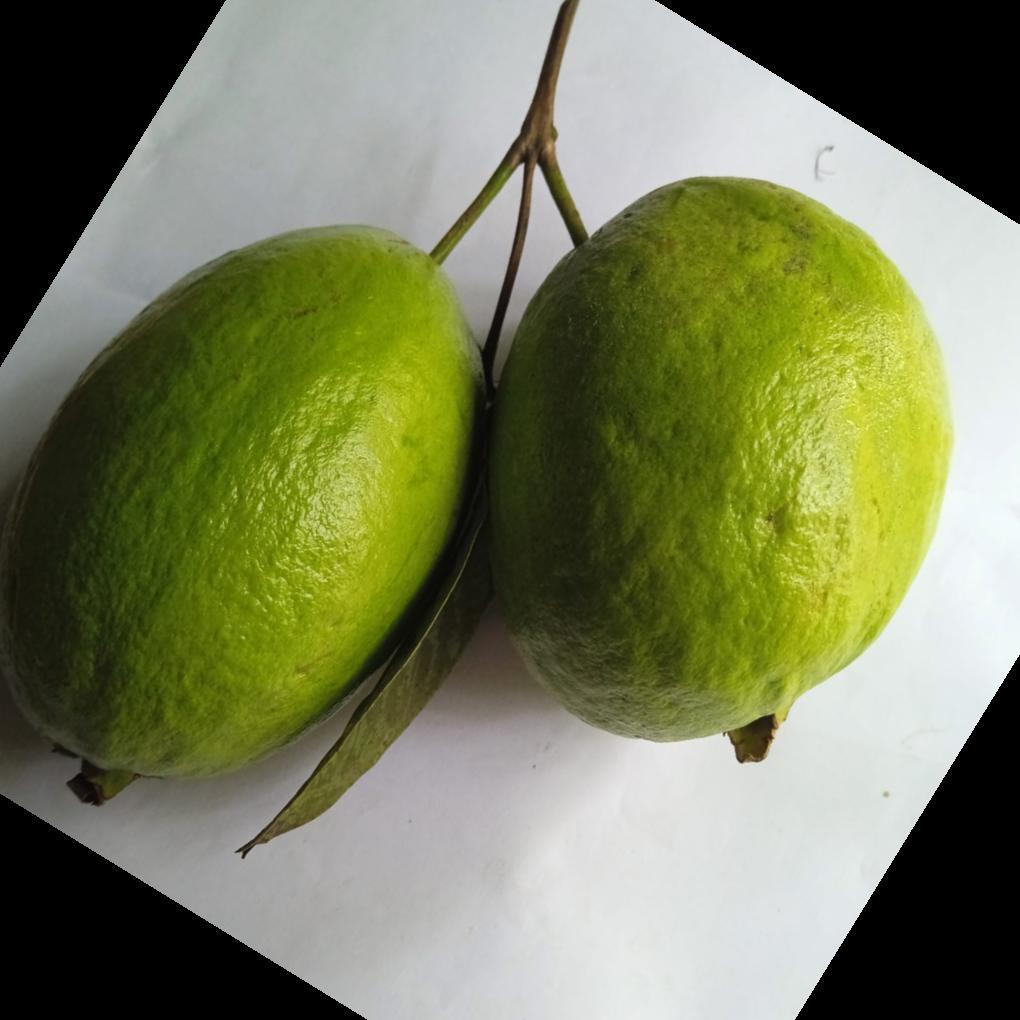FreshGuava: (0, 176, 955, 847)
